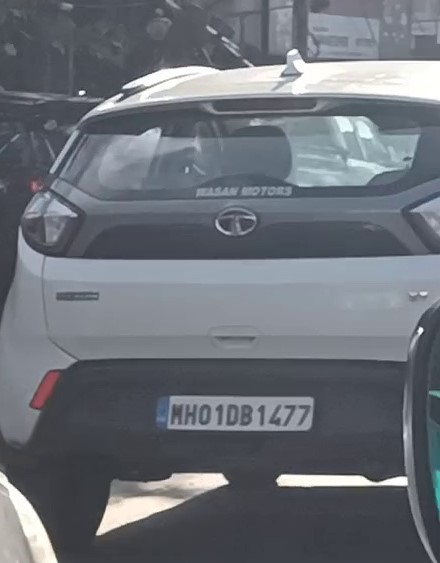MH01DB1477: (153, 395, 313, 432)
